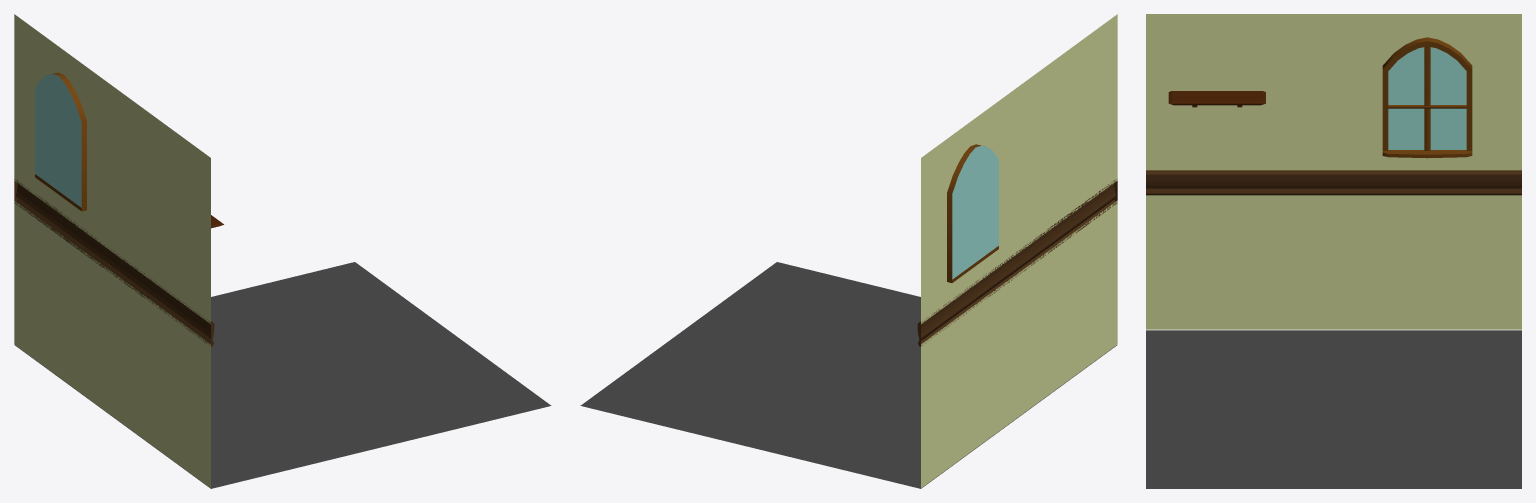
File: Room.fbx
3 renders of one model, left to right at view 1: azimuth 30°, elevation 25°; view 2: azimuth 150°, elevation 25°; view 3: azimuth 270°, elevation 25°, orthographic. The views are drawn at different scales.
Parts seen in each view (by area): view 1: Wall, Floor, Window_TEST; view 2: Wall, Floor, Window_TEST; view 3: Wall, Floor, Window_TEST, Shelf.
Boxes of the visible parts, bbox=[...] form: Wall: bbox=[14, 14, 214, 487]; Floor: bbox=[15, 262, 551, 488]; Window_TEST: bbox=[35, 72, 86, 211]; Wall: bbox=[917, 14, 1117, 487]; Floor: bbox=[580, 262, 1116, 488]; Window_TEST: bbox=[947, 144, 998, 282]; Wall: bbox=[1146, 14, 1521, 329]; Floor: bbox=[1146, 330, 1521, 488]; Window_TEST: bbox=[1382, 37, 1472, 158]; Shelf: bbox=[1168, 91, 1265, 107].
Bounding box in the file's own units: 406 × 371 × 400.
